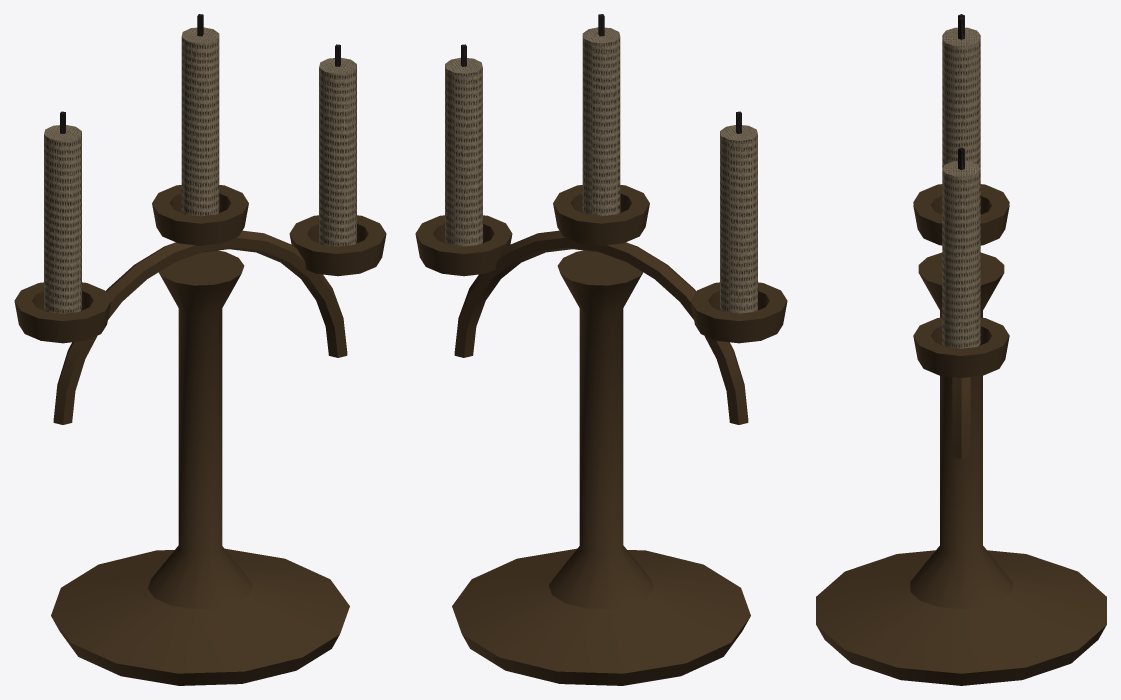
File: table-candelabra-v01-photo.glb
3 views of the same model, side by side, from view 1: azimuth 30°, elevation 25°; view 2: azimuth 150°, elevation 25°; view 3: azimuth 270°, elevation 25° (orthographic).
Visible parts, largest first — view 1: table-candelabra; view 2: table-candelabra; view 3: table-candelabra.
Boxes of the visible parts, <box> form: table-candelabra: <box>14,14,386,685</box>; table-candelabra: <box>415,14,787,685</box>; table-candelabra: <box>816,14,1106,685</box>.
Size of the model in its own units: 0.47 by 0.765 by 0.3315.
Materials: 3 (3 with a texture image).
